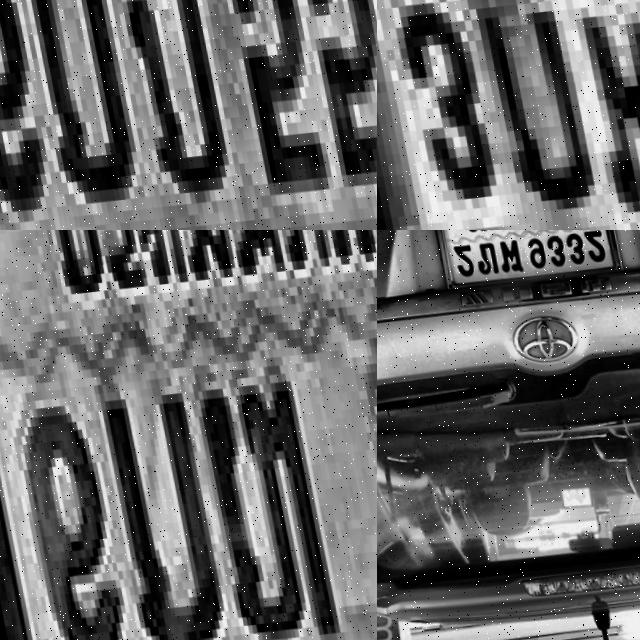license-plate: (0, 230, 377, 640), (0, 0, 377, 230), (377, 0, 640, 230), (409, 230, 630, 307)
